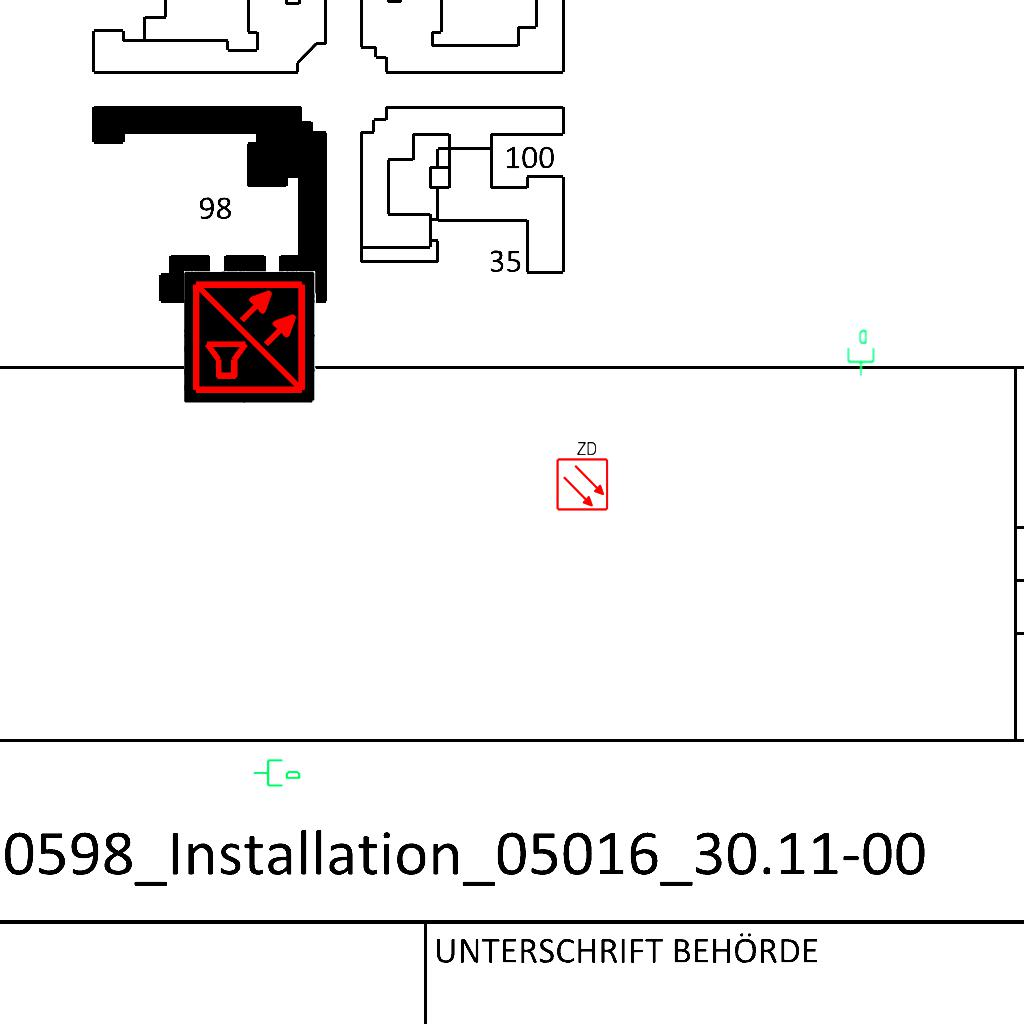Datenanschluss_einfach: (843, 328, 877, 378), (252, 755, 302, 789)
OKW_Multisensormelder_(Kombination_optischer_Rauch-Kahlenmonoxid_Waerme-Melder): (184, 271, 316, 403)
ZD_Melder_in_Zwischendecke_mit_Revisionsoeffnung_mind_40_x_40_cm: (553, 438, 610, 512)
